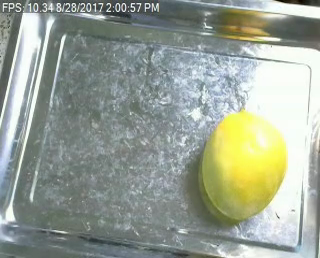Mango: (201, 111, 287, 217)
